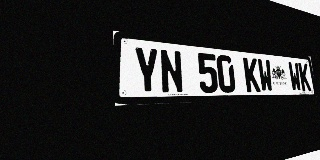0: (216, 54, 236, 93)
5: (197, 53, 219, 93)
K: (243, 57, 261, 92), (298, 63, 312, 91)
N: (159, 49, 184, 94)
W: (257, 59, 274, 92), (288, 62, 302, 91)
Y: (133, 46, 161, 94)
